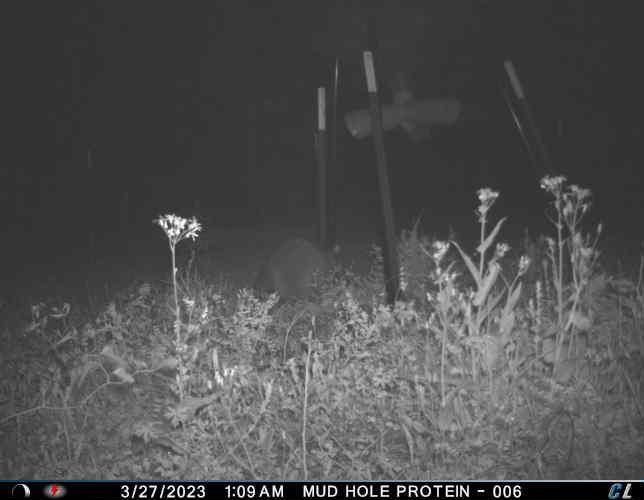Raccoon: (251, 238, 353, 304)
